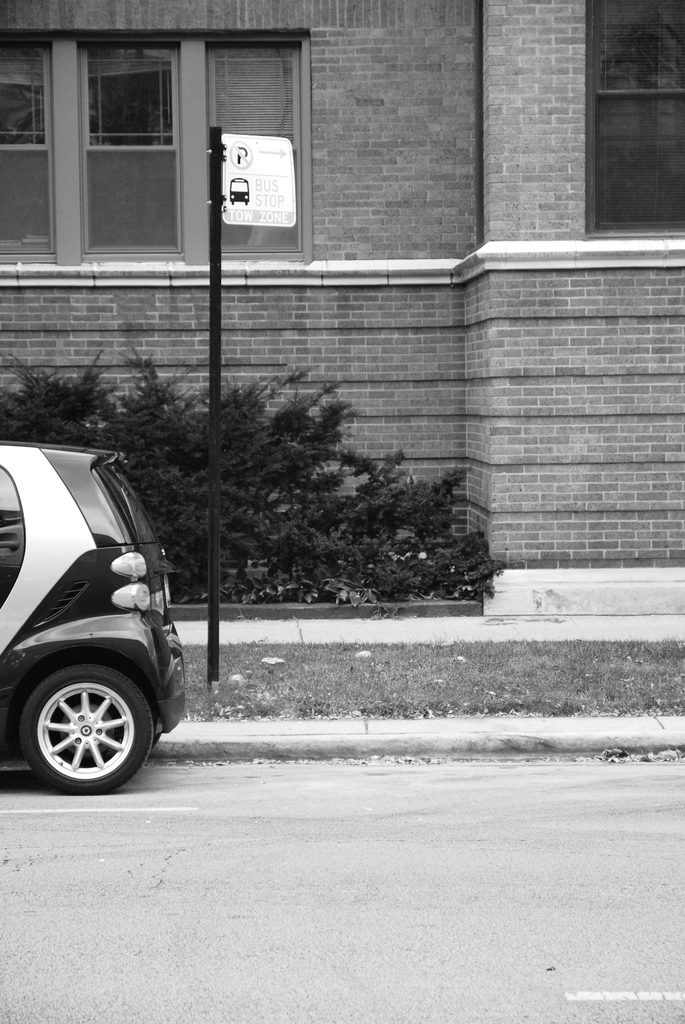Car: (0, 428, 189, 805)
